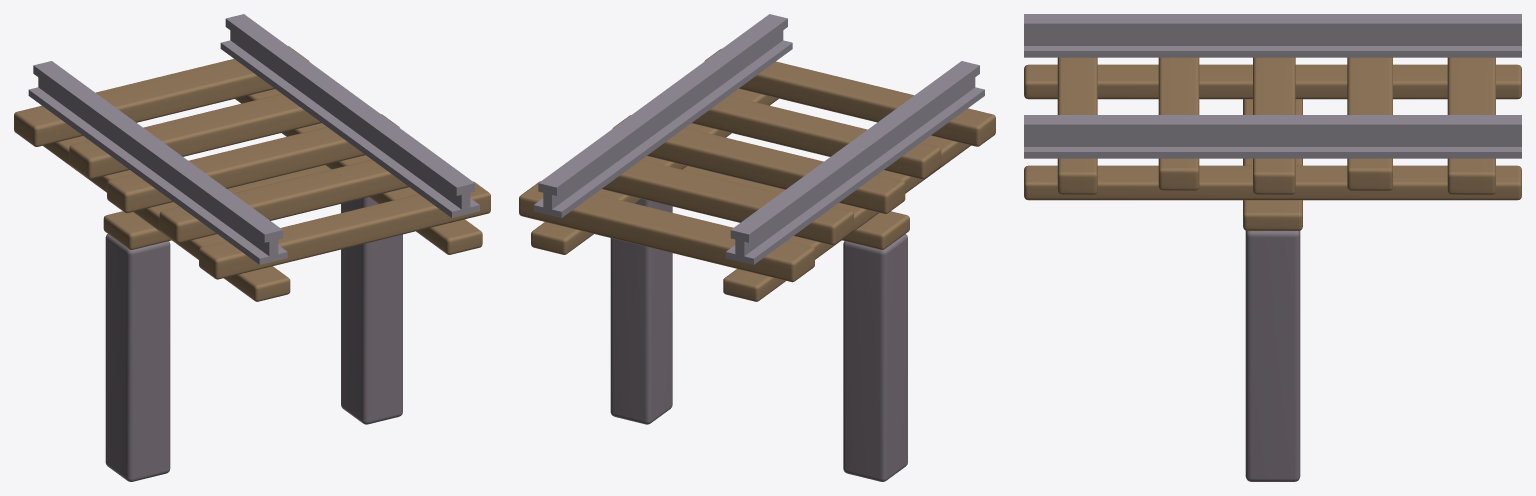
Rendered from mine_rail.glb.
The picture shows the model from 3 angles, left to right: view 1: azimuth 30°, elevation 25°; view 2: azimuth 150°, elevation 25°; view 3: azimuth 270°, elevation 25°; orthographic projection. The views are drawn at different scales.
Bounding box in the file's own units: 0.69 × 0.758 × 1.
